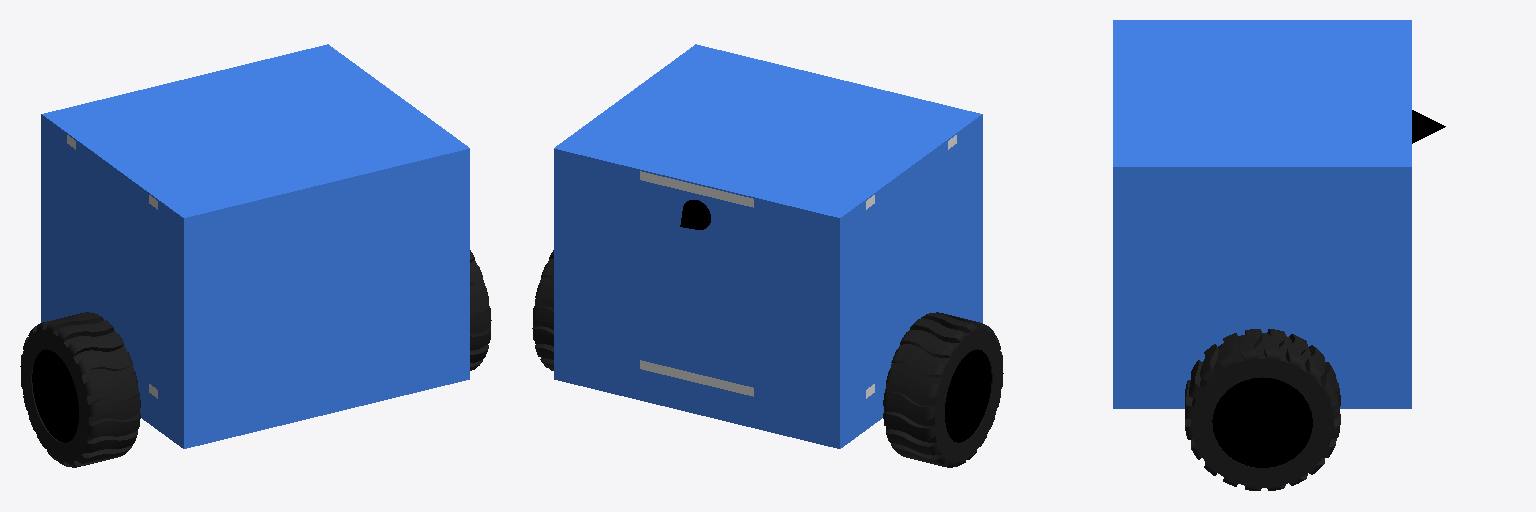
The robot description file, URDF, robot "body":
<?xml version="1.0"?>
<robot name="body">
    <link name="robot_base">
        <inertial>
            <origin rpy="-3.141593 3.141593 -3.141593" xyz="0.000000 0.000000 0.043500" />
            <inertia izz="0.00035951733333333" iyy="0.00032919933333333" ixz="0.0" iyz="0.0" ixx="0.00027538333333333" ixy="0.0" />
            <mass value="0.248" />
        </inertial>
        <collision name="body">
            <origin xyz="0.000000 0.000000 0.053500" rpy="-3.141593 3.141593 -3.141593" />
            <geometry>
                <box size="0.100000 0.086000 0.077000" />
            </geometry>
        </collision>
        <visual name="body">
            <origin xyz="0.000000 0.000000 0.053500" rpy="-3.141593 3.141593 -3.141593" />
            <geometry>
                <box size="0.100000 0.086000 0.077000" />
            </geometry>
            <material name="robot_base_material">
                <color rgba="0.300000 0.570000 1.000000 1.0" />
            </material>
        </visual>
        <visual name="SBR_Assembly_7">
            <origin xyz="0.000000 0.000000 0.005500" rpy="-3.141593 3.141593 -3.141593" />
            <geometry>
                <mesh filename="Blancer_SBR_Assembly_7_vis_1.dae" />
            </geometry>
            <material name="SBR_Assembly_7_material">
                <color rgba="0.964706 0.964706 0.952941 1.0" />
            </material>
        </visual>
        <visual name="SBR_Assembly_7">
            <origin xyz="0.000000 0.000000 0.005500" rpy="-3.141593 3.141593 -3.141593" />
            <geometry>
                <mesh filename="Blancer_SBR_Assembly_7_vis_2.dae" />
            </geometry>
            <material name="SBR_Assembly_7_material">
                <color rgba="0.796078 0.796078 0.796078 1.0" />
            </material>
        </visual>
        <visual name="SBR_Assembly_7">
            <origin xyz="0.000000 0.000000 0.005500" rpy="-3.141593 3.141593 -3.141593" />
            <geometry>
                <mesh filename="Blancer_SBR_Assembly_7_vis_3.dae" />
            </geometry>
            <material name="SBR_Assembly_7_material">
                <color rgba="0.247059 0.247059 0.247059 1.0" />
            </material>
        </visual>
        <visual name="SBR_Assembly_7">
            <origin xyz="0.000000 0.000000 0.005500" rpy="-3.141593 3.141593 -3.141593" />
            <geometry>
                <mesh filename="Blancer_SBR_Assembly_7_vis_4.dae" />
            </geometry>
            <material name="SBR_Assembly_7_material">
                <color rgba="0.952941 0.796078 0.486275 1.0" />
            </material>
        </visual>
        <visual name="SBR_Assembly_7">
            <origin xyz="0.000000 0.000000 0.005500" rpy="-3.141593 3.141593 -3.141593" />
            <geometry>
                <mesh filename="Blancer_SBR_Assembly_7_vis_5.dae" />
            </geometry>
            <material name="SBR_Assembly_7_material">
                <color rgba="0.929412 0.807843 0.764706 1.0" />
            </material>
        </visual>
        <visual name="SBR_Assembly_7">
            <origin xyz="0.000000 0.000000 0.005500" rpy="-3.141593 3.141593 -3.141593" />
            <geometry>
                <mesh filename="Blancer_SBR_Assembly_7_vis_6.dae" />
            </geometry>
            <material name="SBR_Assembly_7_material">
                <color rgba="0.627451 0.627451 0.627451 1.0" />
            </material>
        </visual>
        <visual name="SBR_Assembly_7">
            <origin xyz="0.000000 0.000000 0.005500" rpy="-3.141593 3.141593 -3.141593" />
            <geometry>
                <mesh filename="Blancer_SBR_Assembly_7_vis_7.dae" />
            </geometry>
            <material name="SBR_Assembly_7_material">
                <color rgba="0.266667 0.466667 0.400000 1.0" />
            </material>
        </visual>
        <visual name="SBR_Assembly_7">
            <origin xyz="0.000000 0.000000 0.005500" rpy="-3.141593 3.141593 -3.141593" />
            <geometry>
                <mesh filename="Blancer_SBR_Assembly_7_vis_8.dae" />
            </geometry>
            <material name="SBR_Assembly_7_material">
                <color rgba="0.972549 0.968627 0.929412 1.0" />
            </material>
        </visual>
        <visual name="Cone">
            <origin xyz="0.000000 0.048000 0.081500" rpy="1.570796 3.141593 -3.141593" />
            <geometry>
                <mesh filename="Blancer_Cone_vis_1.dae" />
            </geometry>
            <material name="Cone_material">
                <color rgba="0.000000 0.000000 0.000000 1.0" />
            </material>
        </visual>
    </link>
    <joint type="continuous" name="right_joint">
        <axis xyz="0 0 1" />
        <parent link="robot_base" />
        <child link="right_wheel" />
        <origin xyz="-0.051325 0.000000 0.020000" rpy="0.000000 -1.570796 0.000000" />
    </joint>
    <link name="right_wheel">
        <inertial>
            <origin rpy="-3.141593 3.141593 -3.141593" xyz="-0.000000 0.000000 0.009840" />
            <inertia izz="3.6e-06" iyy="2.2335e-06" ixz="0.0" iyz="0.0" ixx="2.2335e-06" ixy="0.0" />
            <mass value="0.018" />
        </inertial>
        <collision name="right_wheel">
            <origin xyz="-0.000000 0.000000 0.009840" rpy="-3.141593 3.141593 -3.141593" />
            <geometry>
                <cylinder radius="0.02" length="0.017" />
            </geometry>
        </collision>
        <visual name="right_wheel">
            <origin xyz="-0.000000 0.000000 0.009840" rpy="-3.141593 3.141593 -3.141593" />
            <geometry>
                <cylinder radius="0.02" length="0.017" />
            </geometry>
            <material name="right_wheel_material">
                <color rgba="0.000000 0.000000 0.000000 1.0" />
            </material>
        </visual>
        <visual name="N20_Wheel_D43_mm_v2_1">
            <origin xyz="-0.000000 0.000000 0.009840" rpy="0.000000 1.570796 0.000000" />
            <geometry>
                <mesh filename="Blancer_N20_Wheel_D43_mm_v2_1_vis_1.dae" />
            </geometry>
            <material name="N20_Wheel_D43_mm_v2_1_material">
                <color rgba="0.152941 0.152941 0.152941 1.0" />
            </material>
        </visual>
        <visual name="N20_Wheel_D43_mm_v2_1">
            <origin xyz="-0.000000 0.000000 0.009840" rpy="0.000000 1.570796 0.000000" />
            <geometry>
                <mesh filename="Blancer_N20_Wheel_D43_mm_v2_1_vis_2.dae" />
            </geometry>
            <material name="N20_Wheel_D43_mm_v2_1_material">
                <color rgba="0.964706 0.964706 0.952941 1.0" />
            </material>
        </visual>
    </link>
    <joint type="continuous" name="left_joint">
        <axis xyz="0 0 1" />
        <parent link="robot_base" />
        <child link="left_wheel" />
        <origin xyz="0.051330 0.000000 0.020000" rpy="0.000000 -1.570796 0.000000" />
    </joint>
    <link name="left_wheel">
        <inertial>
            <origin rpy="-3.141593 3.141593 -3.141593" xyz="0.000000 0.000000 -0.009840" />
            <inertia izz="3.6e-06" iyy="2.2335e-06" ixz="0.0" iyz="0.0" ixx="2.2335e-06" ixy="0.0" />
            <mass value="0.018" />
        </inertial>
        <collision name="left_wheel">
            <origin xyz="0.000000 0.000000 -0.009840" rpy="-3.141593 3.141593 -3.141593" />
            <geometry>
                <cylinder radius="0.02" length="0.017" />
            </geometry>
        </collision>
        <visual name="left_wheel">
            <origin xyz="0.000000 0.000000 -0.009840" rpy="-3.141593 3.141593 -3.141593" />
            <geometry>
                <cylinder radius="0.02" length="0.017" />
            </geometry>
            <material name="left_wheel_material">
                <color rgba="0.000000 0.000000 0.000000 1.0" />
            </material>
        </visual>
        <visual name="N20_Wheel_D43_mm_v2_1">
            <origin xyz="0.000000 0.000000 -0.009840" rpy="3.141593 -1.570796 0.000000" />
            <geometry>
                <mesh filename="Blancer_N20_Wheel_D43_mm_v2_1_2_vis_1.dae" />
            </geometry>
            <material name="N20_Wheel_D43_mm_v2_1_2_material">
                <color rgba="0.152941 0.152941 0.152941 1.0" />
            </material>
        </visual>
        <visual name="N20_Wheel_D43_mm_v2_1">
            <origin xyz="0.000000 0.000000 -0.009840" rpy="3.141593 -1.570796 0.000000" />
            <geometry>
                <mesh filename="Blancer_N20_Wheel_D43_mm_v2_1_2_vis_2.dae" />
            </geometry>
            <material name="N20_Wheel_D43_mm_v2_1_2_material">
                <color rgba="0.964706 0.964706 0.952941 1.0" />
            </material>
        </visual>
    </link>
</robot>

--- What the picture shows (computed from the rendered views, not written in the file) ---
Views: 3 orthographic renders of the robot side by side, from view 1: azimuth 30°, elevation 25°; view 2: azimuth 150°, elevation 25°; view 3: azimuth 270°, elevation 25°.
Model body with 3 links and 2 joints (2 continuous), rooted at robot_base, posed all joints at 0.
Visible links, largest first — view 1: robot_base, right_wheel, left_wheel; view 2: robot_base, right_wheel, left_wheel; view 3: robot_base, left_wheel.
Boxes of the visible links, box(x1,y1,x2,y2) form: robot_base: box(41, 44, 469, 448); right_wheel: box(20, 312, 140, 467); left_wheel: box(470, 250, 491, 370); robot_base: box(554, 44, 982, 448); right_wheel: box(883, 312, 1003, 467); left_wheel: box(532, 250, 553, 370); robot_base: box(1113, 20, 1445, 408); left_wheel: box(1185, 329, 1340, 490).
Bounding box of the posed robot: 0.1401 × 0.096 × 0.0945 m (x, y, z).
10 mesh visuals loaded from 13 distinct referenced files (10 Collada DAE); not drawn: 3 (reference not matched to a file when rendering).
